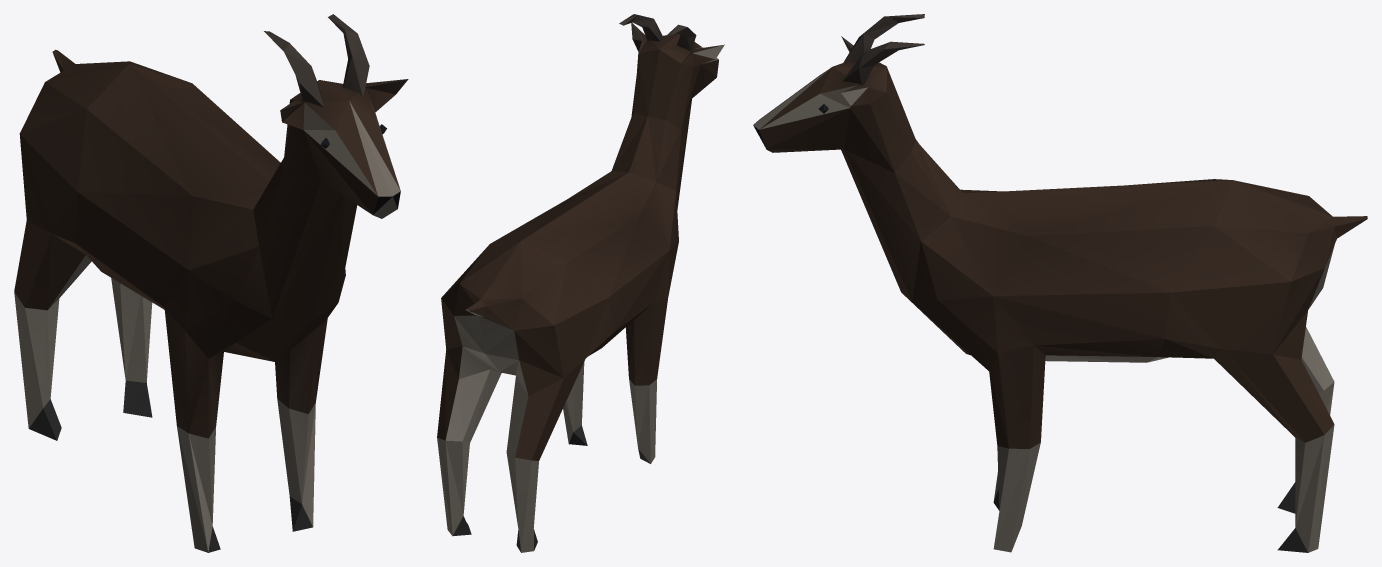
File: goat_lod1.glb
The picture shows the model from 3 angles, left to right: view 1: azimuth 30°, elevation 25°; view 2: azimuth 150°, elevation 25°; view 3: azimuth 270°, elevation 25°; orthographic projection. The views are drawn at different scales.
Parts seen in each view (by area): view 1: goat; view 2: goat; view 3: goat.
Part boxes in pixels (x1,y1,x2,y2): goat: [14, 14, 408, 552]; goat: [437, 14, 724, 552]; goat: [753, 14, 1367, 552].
Size of the model in its own units: 0.429 by 1.24 by 1.39.
